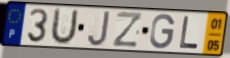3: (26, 8, 50, 44)
G: (149, 13, 177, 51)
J: (86, 10, 111, 48)
L: (178, 15, 200, 51)
U: (48, 7, 80, 46)
Z: (111, 10, 144, 49)
